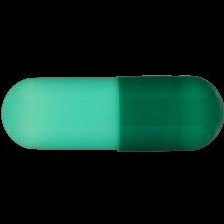43063-406: (0, 0, 224, 224)
